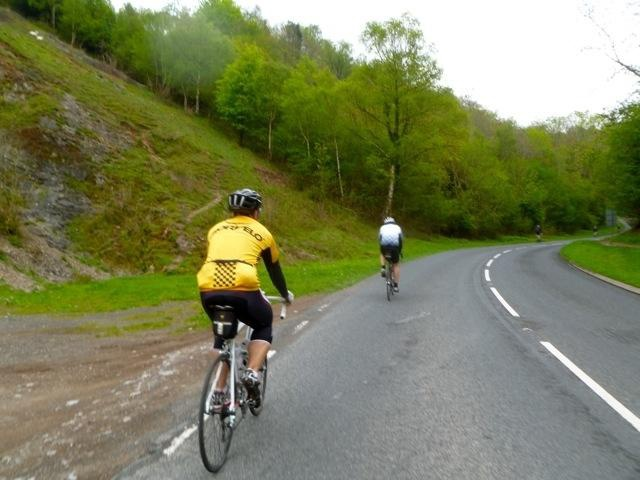non-vehicle: (197, 292, 294, 473), (382, 251, 404, 300)
